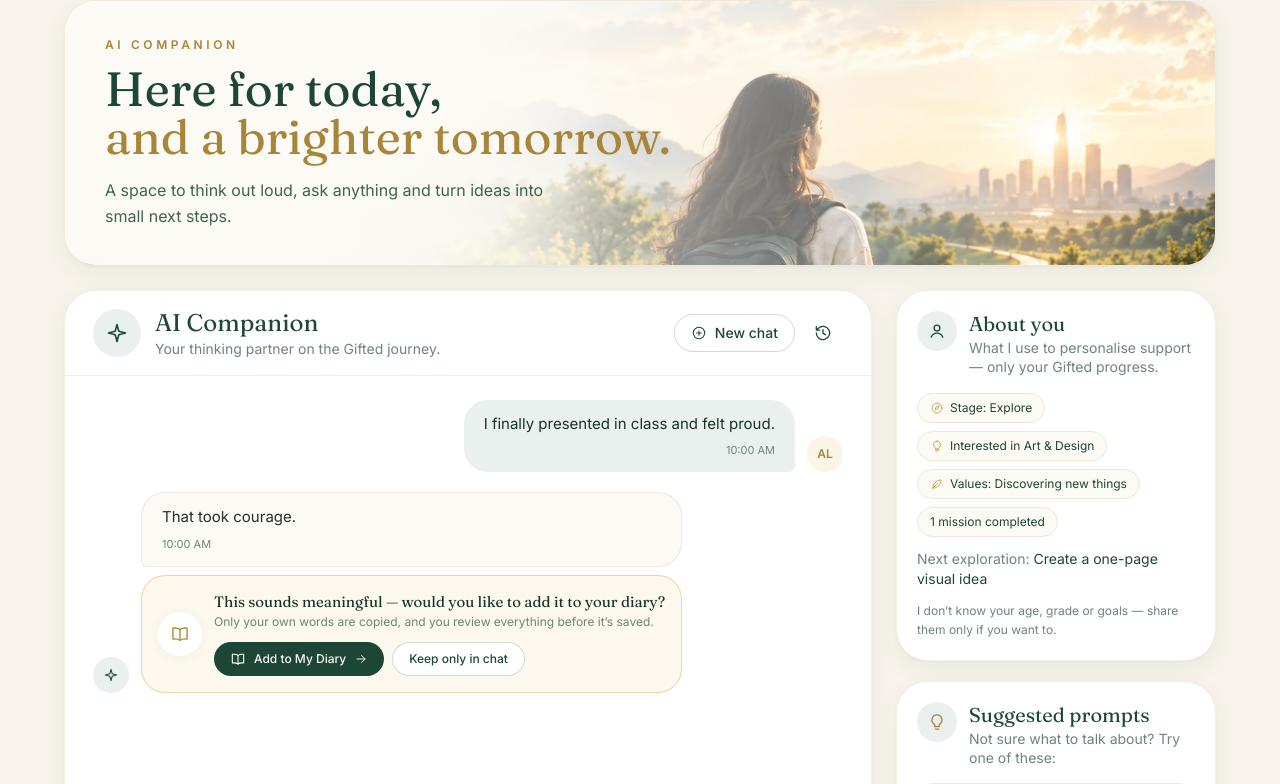
Test case: Add to My Diary offer › Keep only in chat hides the offer
The image size is (1280, 784).
Click the button "Keep only in chat" at coordinates (459, 659), box [392,642,525,676]
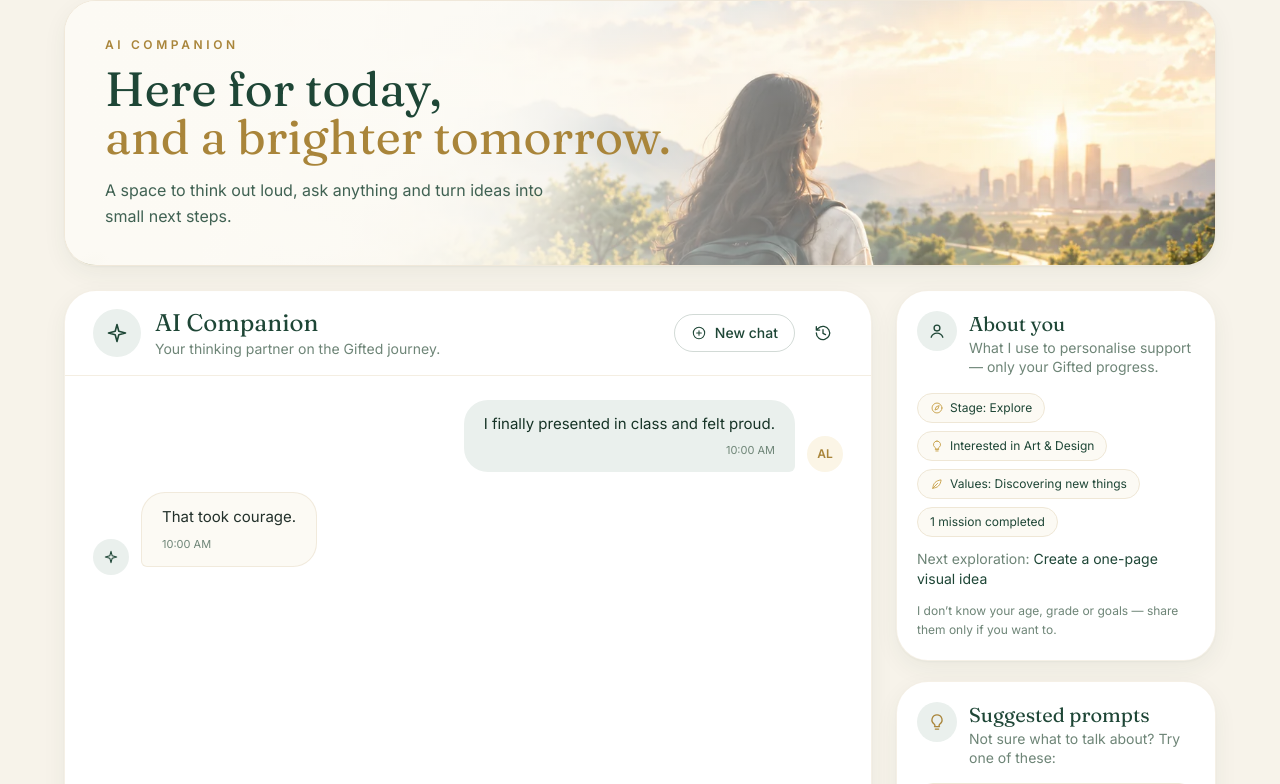
Now the button "Add to My Diary" is gone
